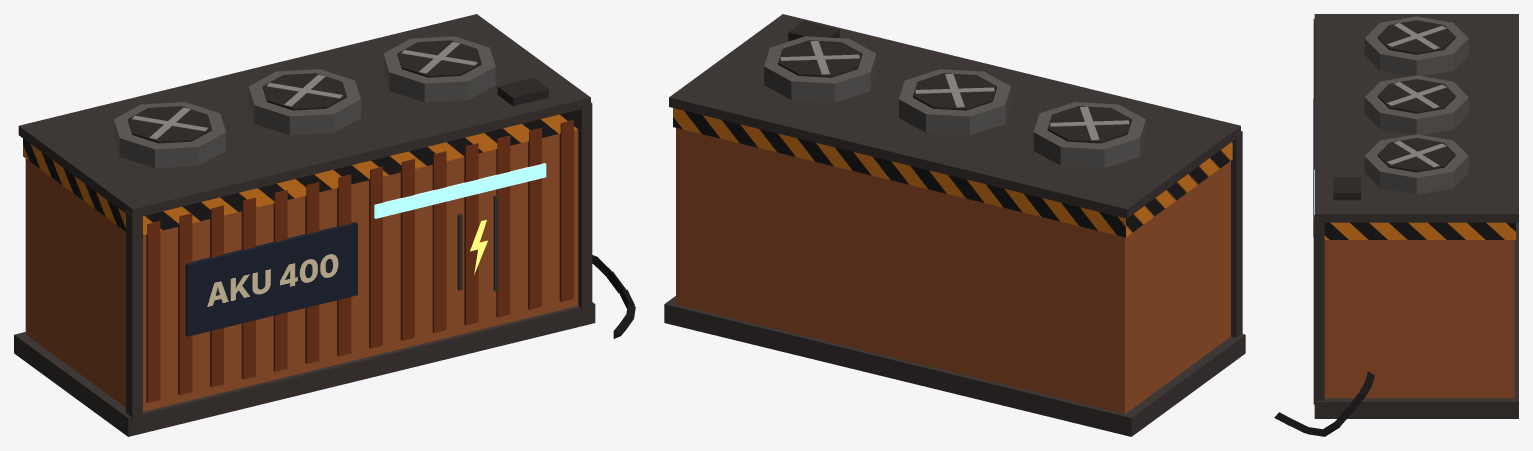
File: baterie-T3-kontejner.glb
3 renders of one model, left to right at view 1: azimuth 30°, elevation 25°; view 2: azimuth 150°, elevation 25°; view 3: azimuth 270°, elevation 25°, orthographic. The views are drawn at different scales.
Parts seen in each view (by area): view 1: baterie-T3-kontejner; view 2: baterie-T3-kontejner; view 3: baterie-T3-kontejner.
Part boxes in pixels (left/top/right/bottom): baterie-T3-kontejner: left=14, top=14, right=635, bottom=436; baterie-T3-kontejner: left=664, top=14, right=1245, bottom=436; baterie-T3-kontejner: left=1274, top=14, right=1518, bottom=436.
Size of the model in its own units: 5.7 by 2.68 by 2.64.
Materials: 12 (2 with a texture image).
